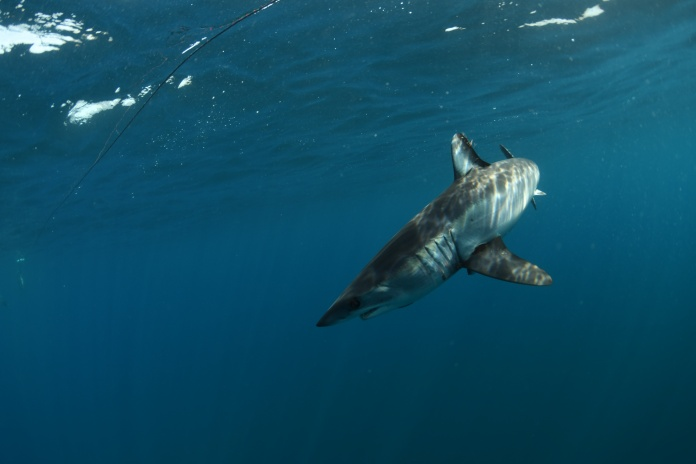Mako: (304, 124, 578, 341)
